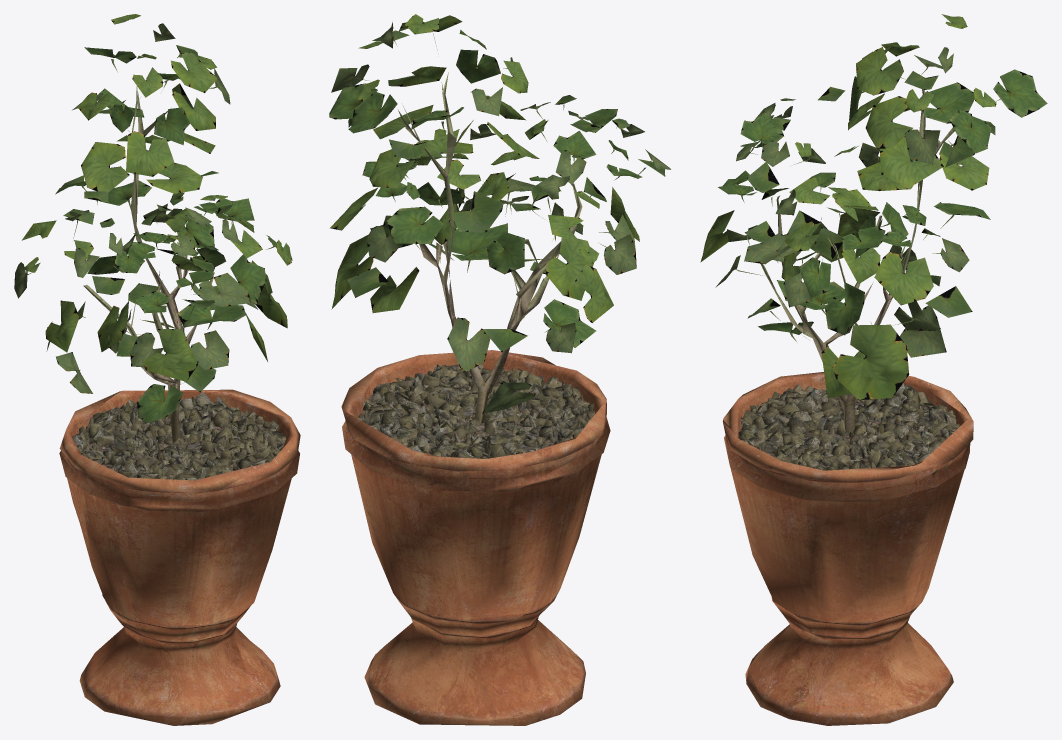
File: potted_plant_01.glb
The picture shows the model from 3 angles, left to right: view 1: azimuth 30°, elevation 25°; view 2: azimuth 150°, elevation 25°; view 3: azimuth 270°, elevation 25°; orthographic projection. The views are drawn at different scales.
Parts seen in each view (by area): view 1: potted_plant_01_pot, potted_plant_01_leaves, potted_plant_01_pebbles, potted_plant_01_stem; view 2: potted_plant_01_pot, potted_plant_01_leaves, potted_plant_01_pebbles, potted_plant_01_stem; view 3: potted_plant_01_pot, potted_plant_01_leaves, potted_plant_01_pebbles, potted_plant_01_stem.
Part boxes in pixels (left/top/right/bottom): potted_plant_01_pot: left=59, top=389, right=300, bottom=725; potted_plant_01_leaves: left=14, top=14, right=292, bottom=423; potted_plant_01_pebbles: left=67, top=392, right=286, bottom=495; potted_plant_01_stem: left=83, top=86, right=213, bottom=443; potted_plant_01_pot: left=341, top=350, right=610, bottom=725; potted_plant_01_leaves: left=329, top=14, right=670, bottom=413; potted_plant_01_pebbles: left=352, top=363, right=594, bottom=476; potted_plant_01_stem: left=398, top=72, right=582, bottom=422; potted_plant_01_pot: left=722, top=372, right=973, bottom=725; potted_plant_01_leaves: left=700, top=14, right=1047, bottom=399; potted_plant_01_pebbles: left=738, top=383, right=959, bottom=474; potted_plant_01_stem: left=760, top=74, right=966, bottom=434.
Bounding box in the file's own units: 0.5866 × 1.34 × 0.6336.
2 materials, 2 textured.
